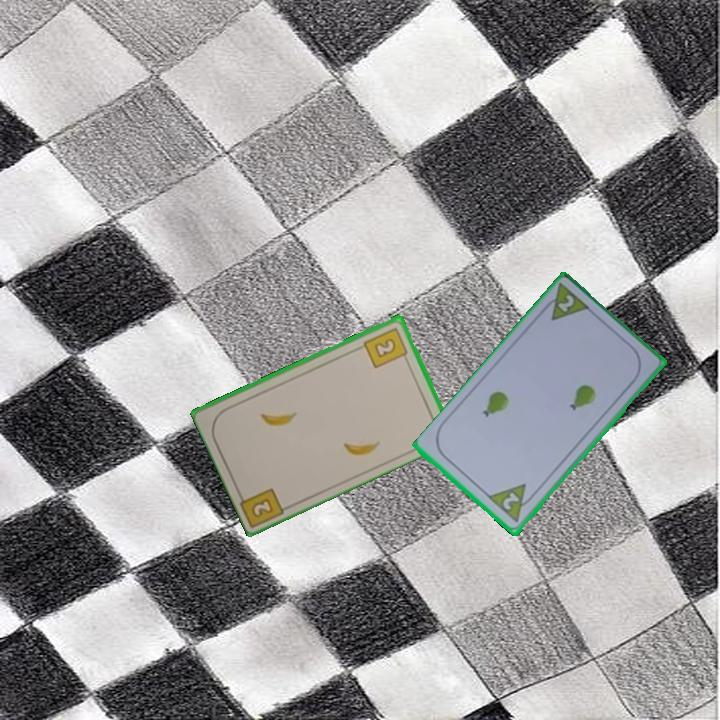2b: (360, 324, 411, 371), (248, 494, 276, 521)
2p: (537, 280, 594, 325), (499, 489, 522, 514)
